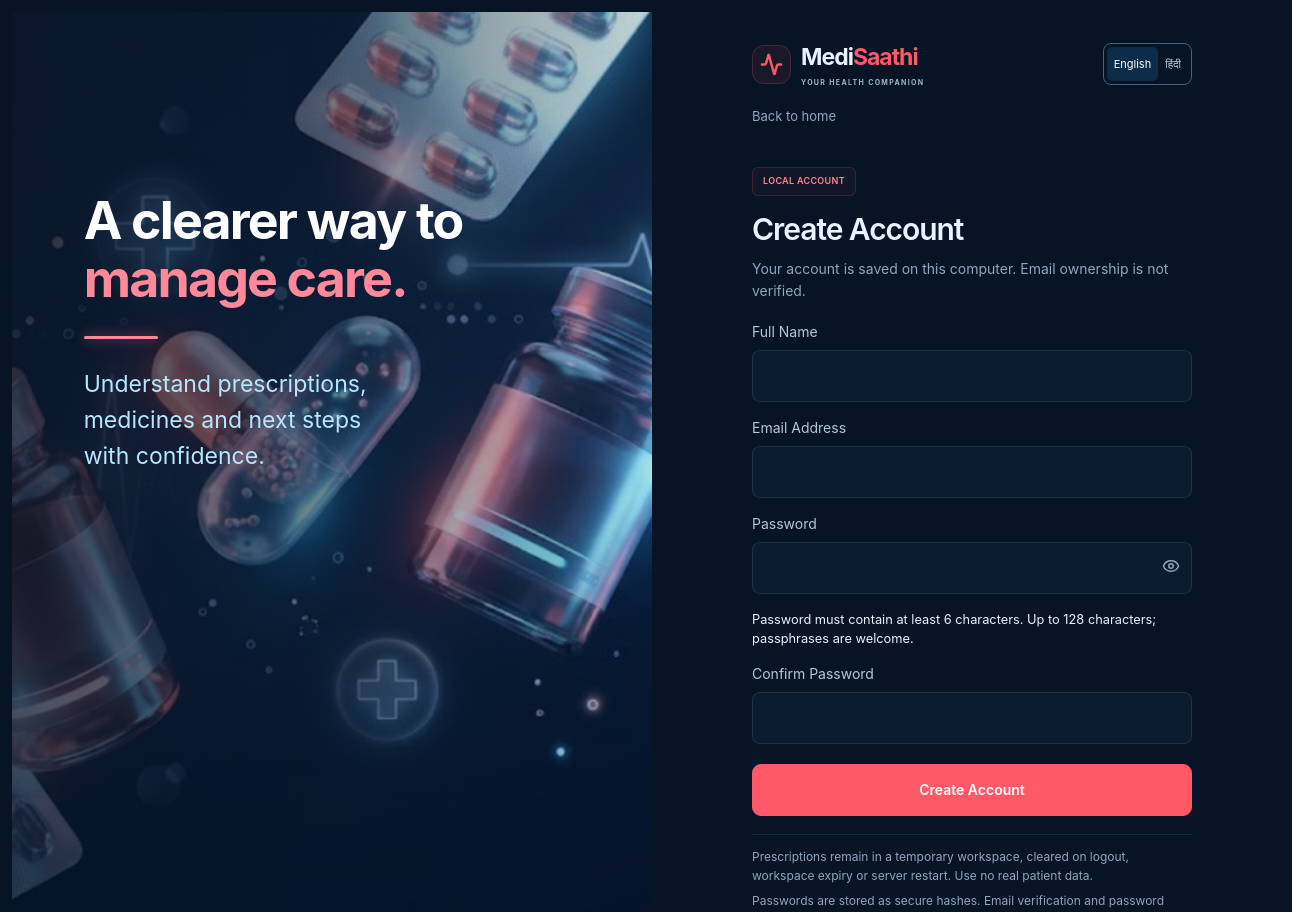
Test: signs up with name and confirmed password, clears inputs, and shows registered name and initials
In the field labelled "Full Name": {"x": 972, "y": 376} x1=752 y1=350 x2=1192 y2=402, type "Asha Sharma"
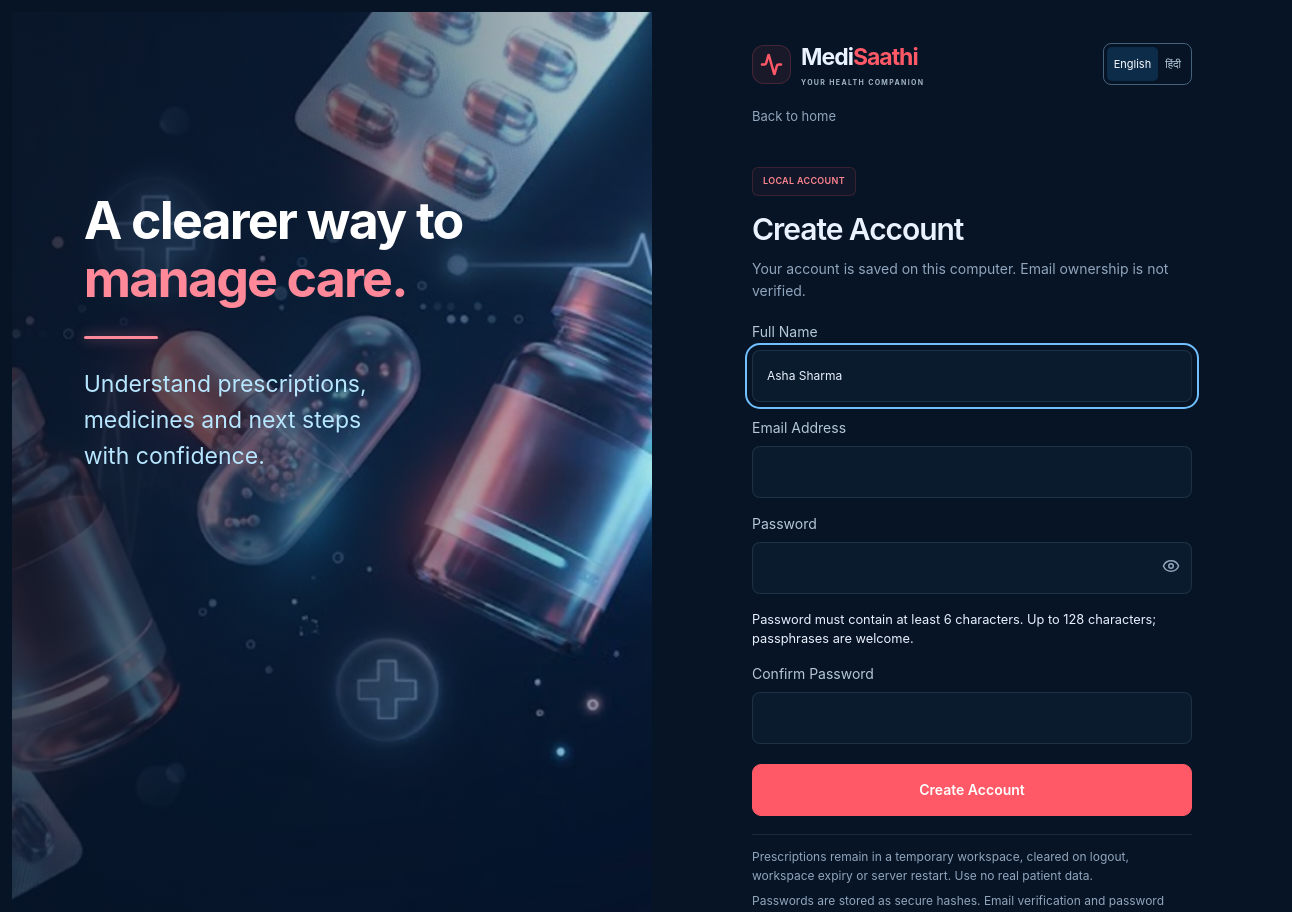
In the field labelled "Email Address": {"x": 972, "y": 472} x1=752 y1=446 x2=1192 y2=498, type "asha@example.test"
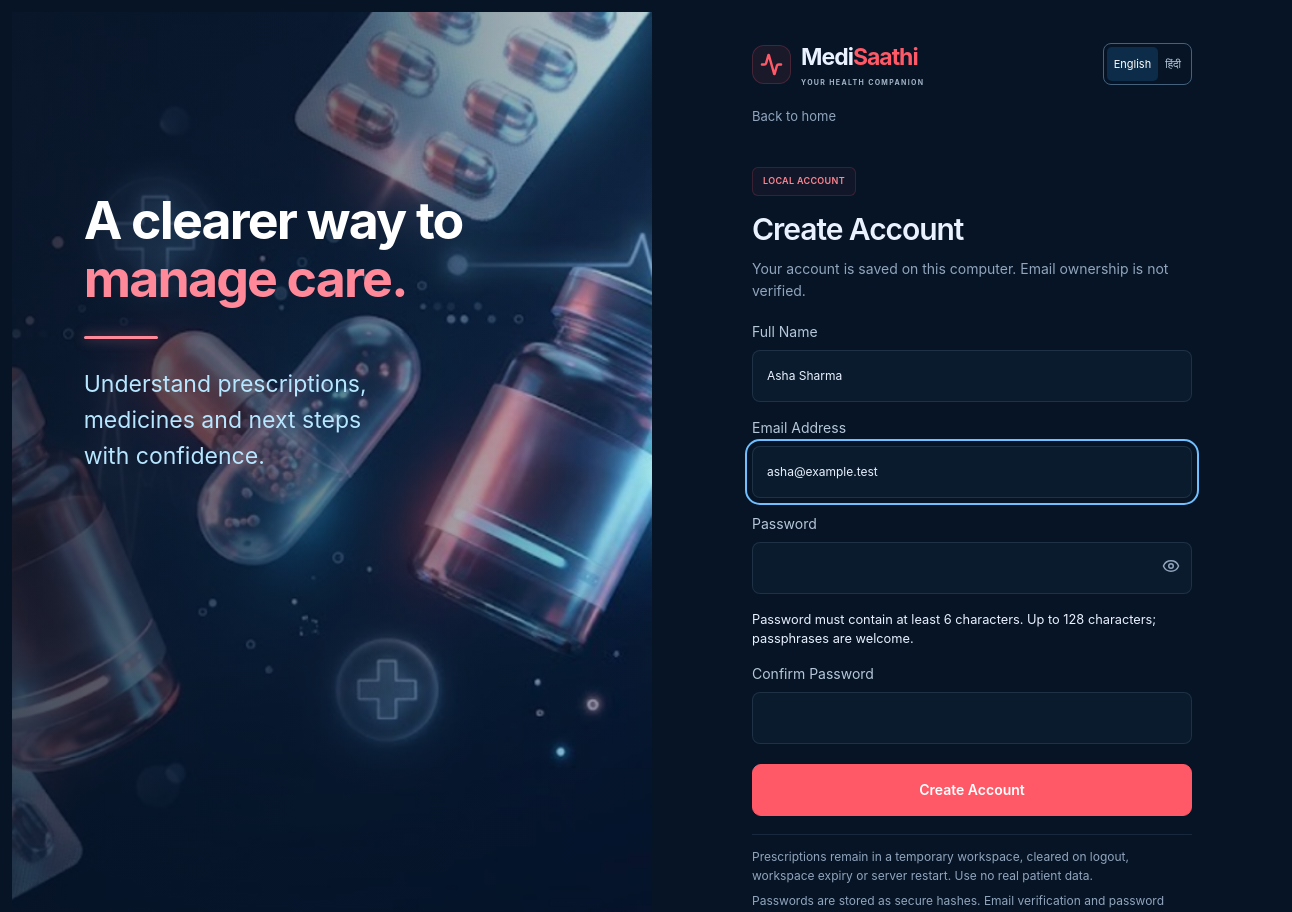
In the password field labelled "Password": {"x": 972, "y": 568} x1=752 y1=542 x2=1192 y2=594, type "fictional-password"
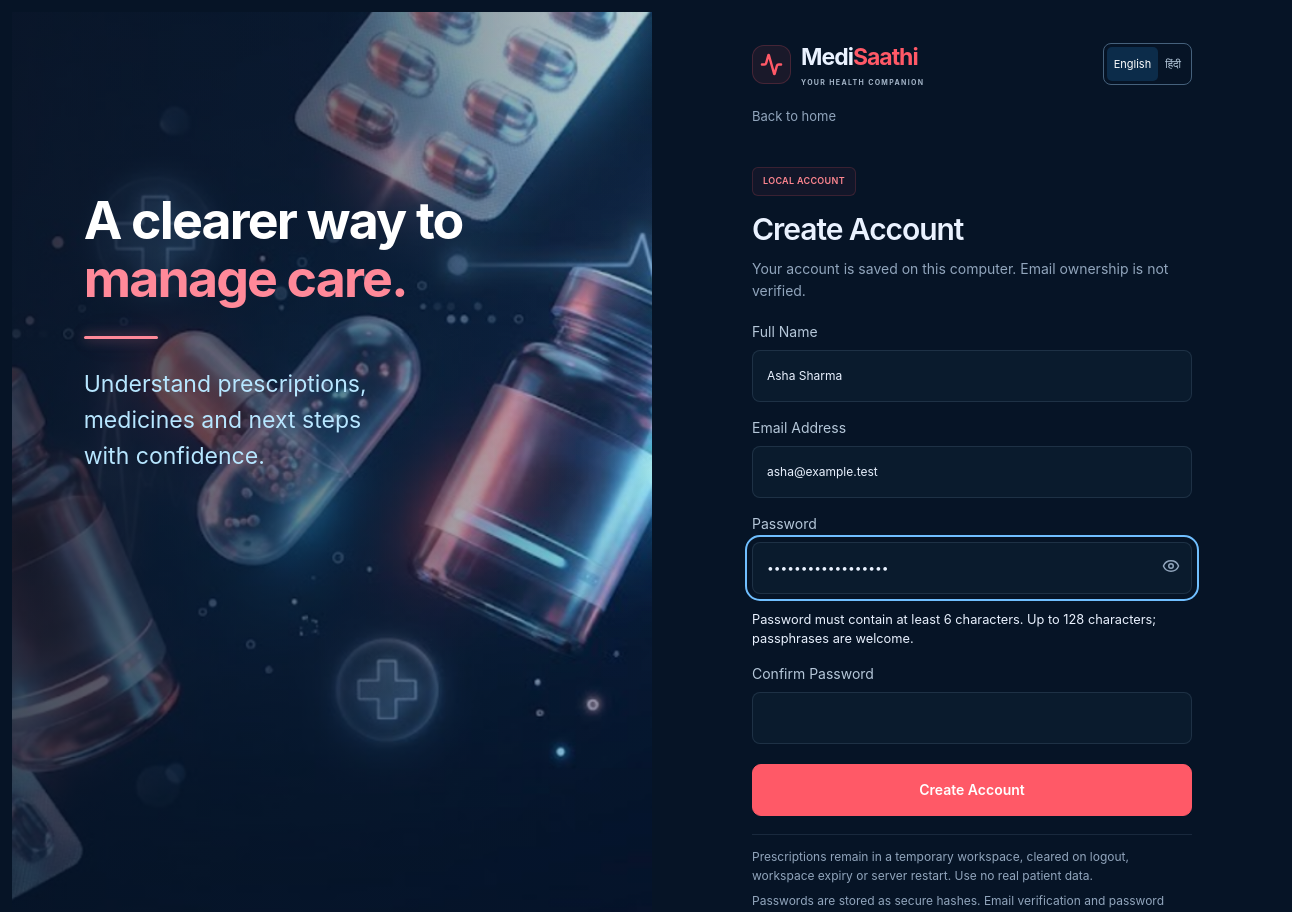
In the password field labelled "Confirm Password": {"x": 972, "y": 718} x1=752 y1=692 x2=1192 y2=744, type "fictional-password"
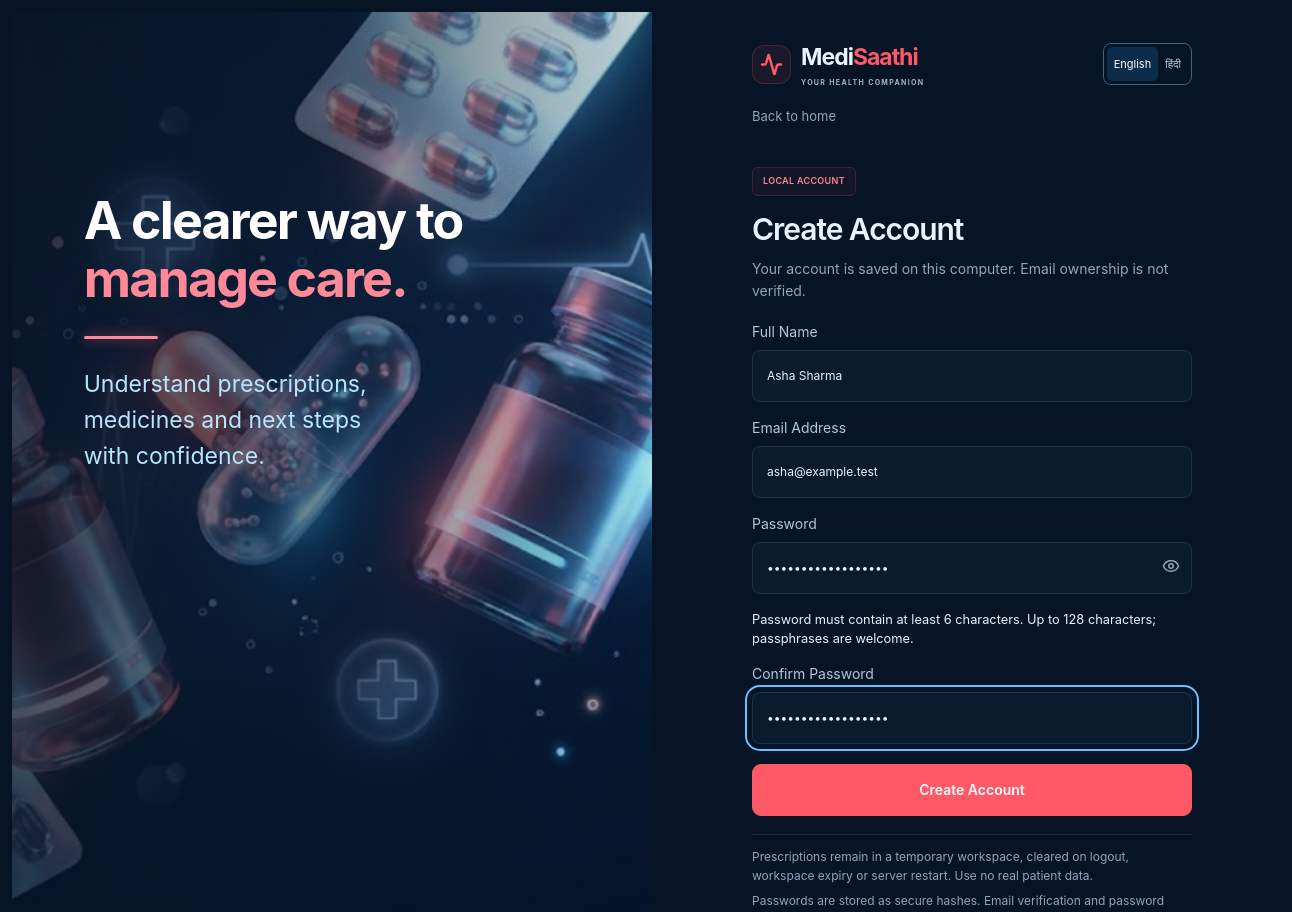
Click the button "Create Account": {"x": 972, "y": 790} x1=752 y1=764 x2=1192 y2=816
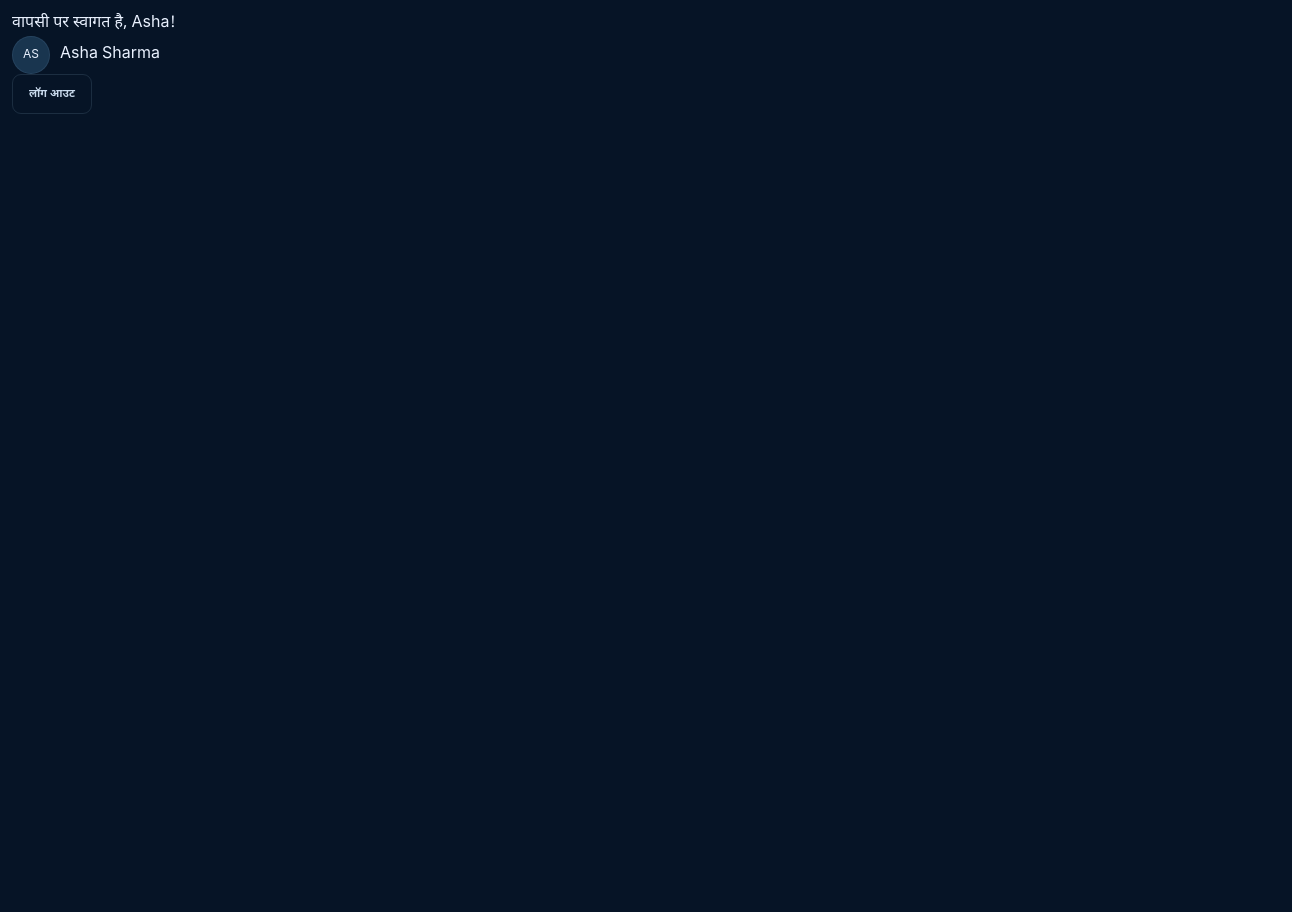
Expected: the text "Welcome back, Asha!" is shown, x1=12 y1=13 x2=176 y2=114
Expected: the text "Asha Sharma" is shown 2 times
Expected: the text "वापसी पर स्वागत है, Asha!" is shown, x1=12 y1=13 x2=176 y2=34
